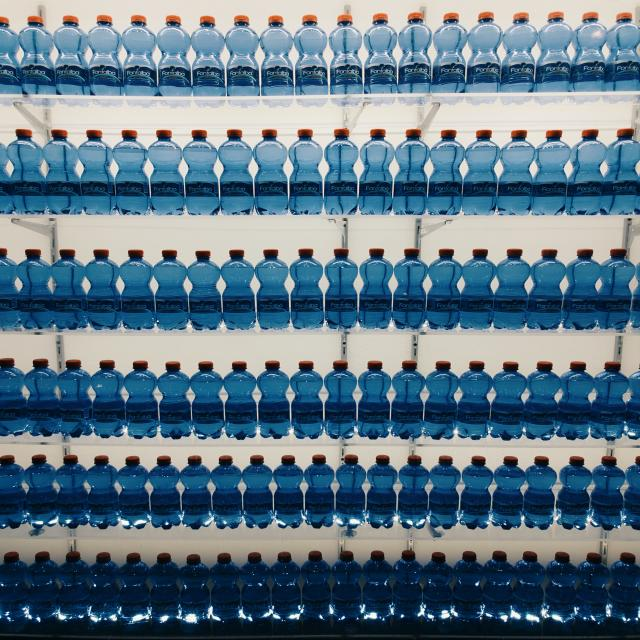Plastic: (0, 16, 640, 640)
